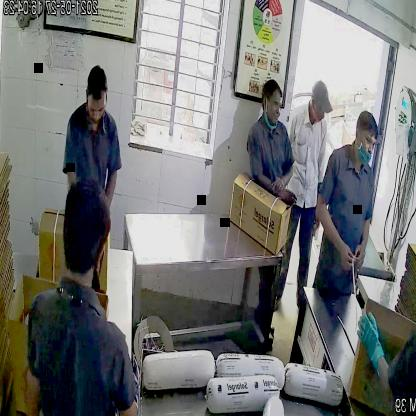no_goggles: (356, 128, 381, 153), (84, 99, 109, 122)
